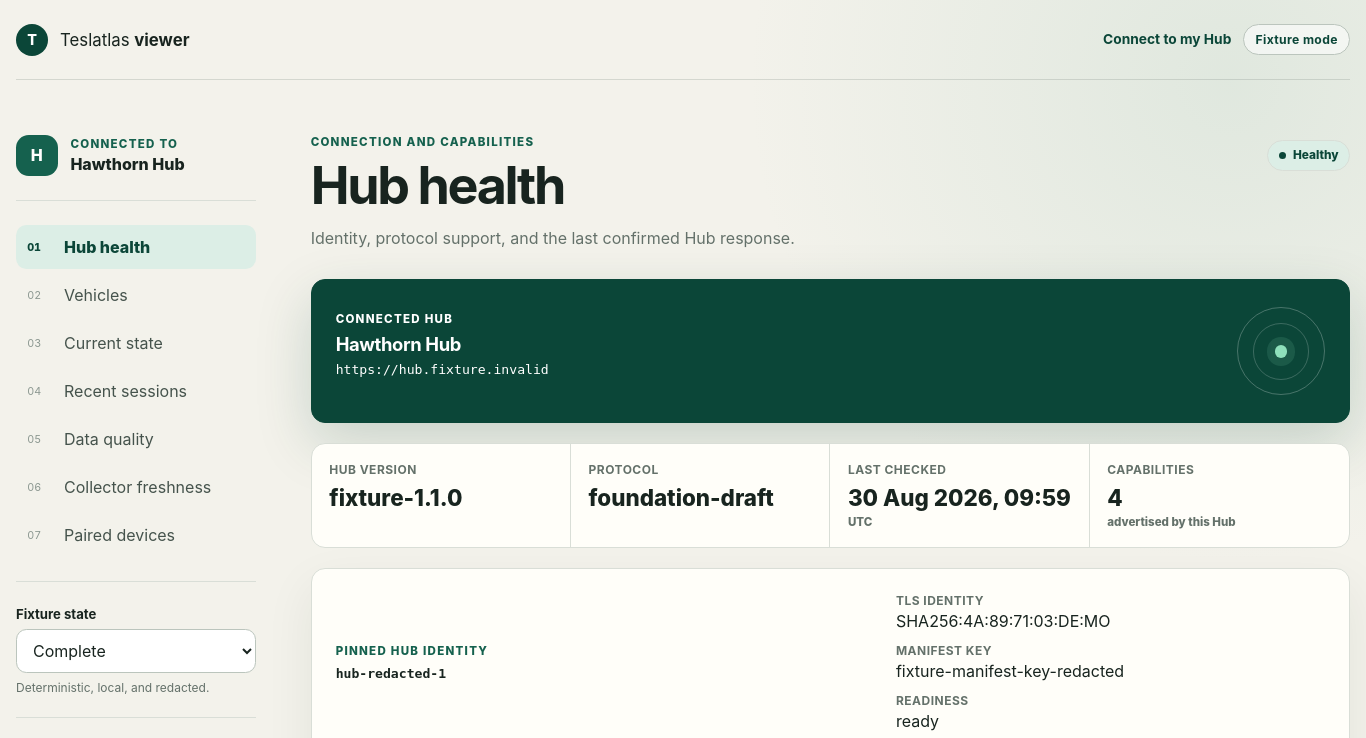
Scenario: reference views › labels retained vehicle, current, and drive resources as stale
The width and height of the screenshot is (1366, 738).
Click the button "02 Vehicles" at (136, 295), box [16,273,256,317]
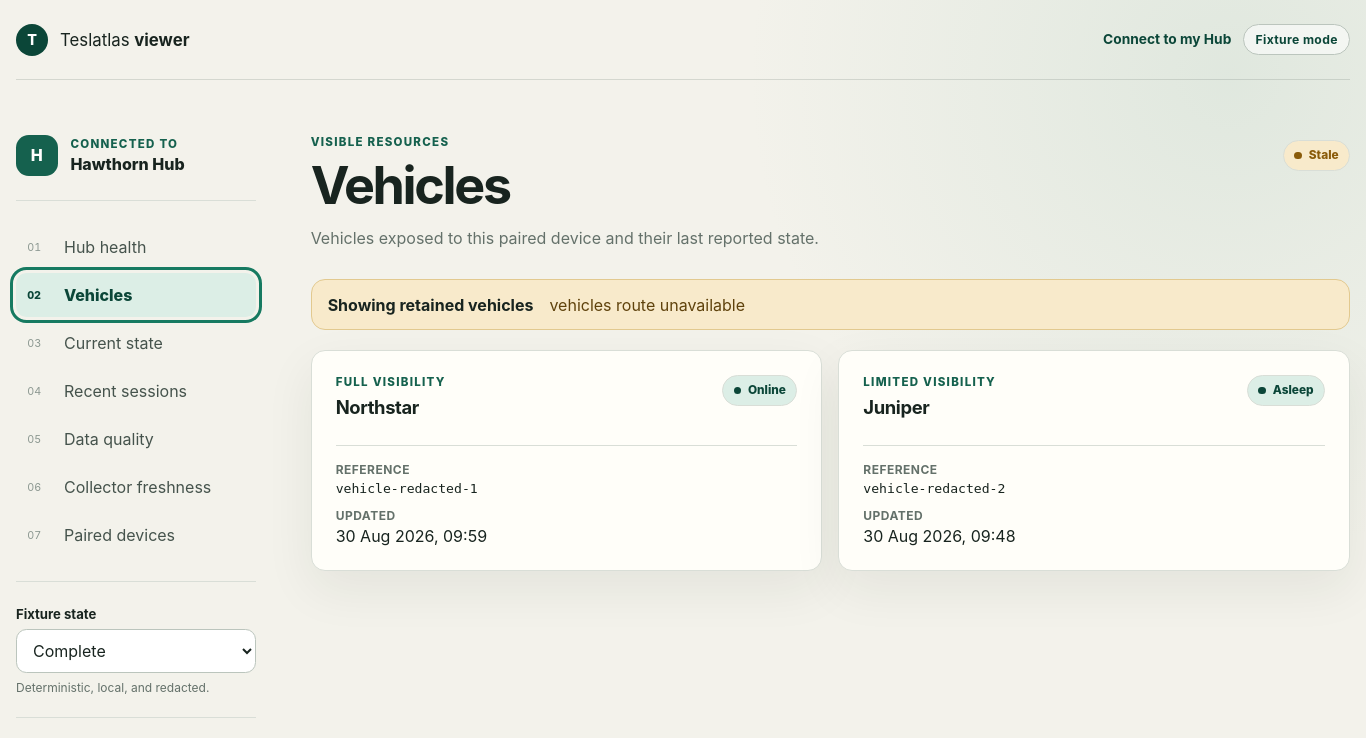
Result: the text "Showing retained vehicles" is shown at [328,295,533,315]
Result: the heading "Northstar" is shown at [336,396,419,418]
Click the button "03 Current state" at (136, 343), box [16,321,256,365]
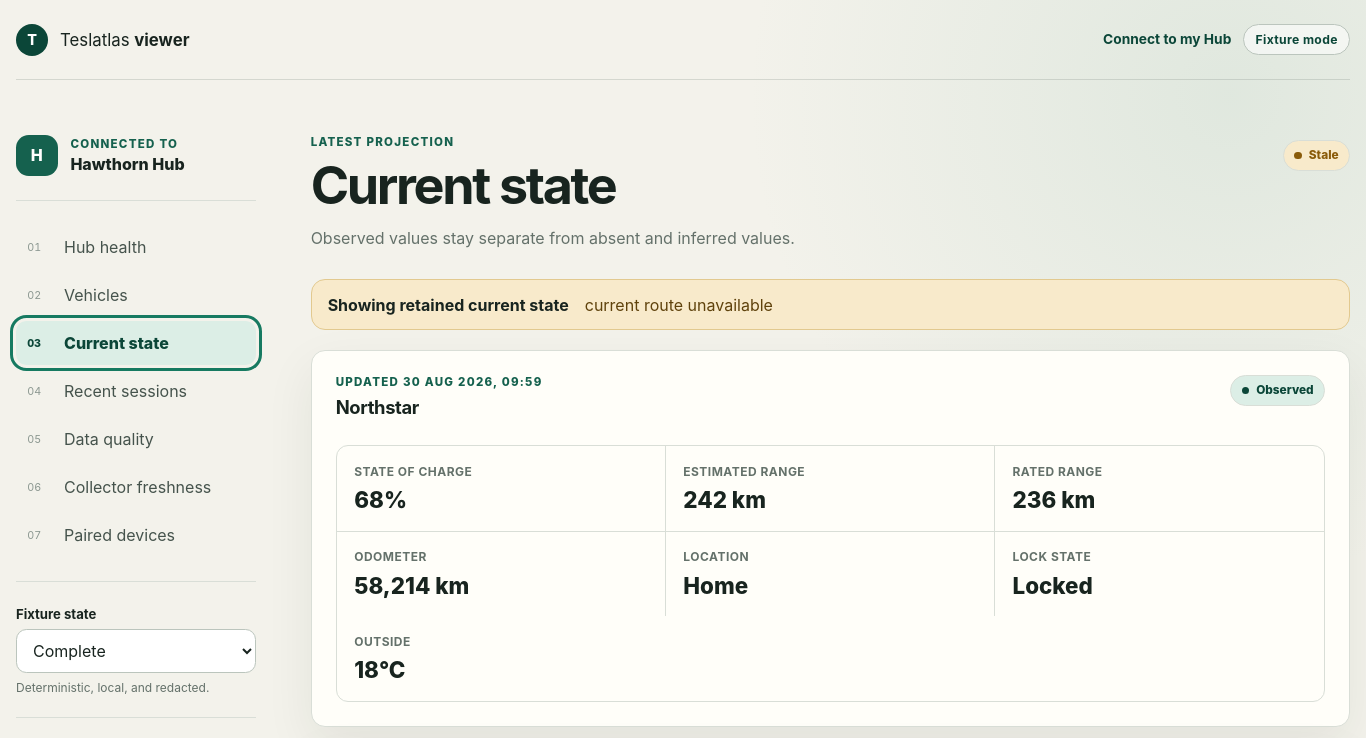
Result: the text "Showing retained current state" is shown at [328,295,569,315]
Result: the text "68%" is shown at [354,486,407,513]
Click the button "04 Recent sessions" at (136, 391), box [16,369,256,413]
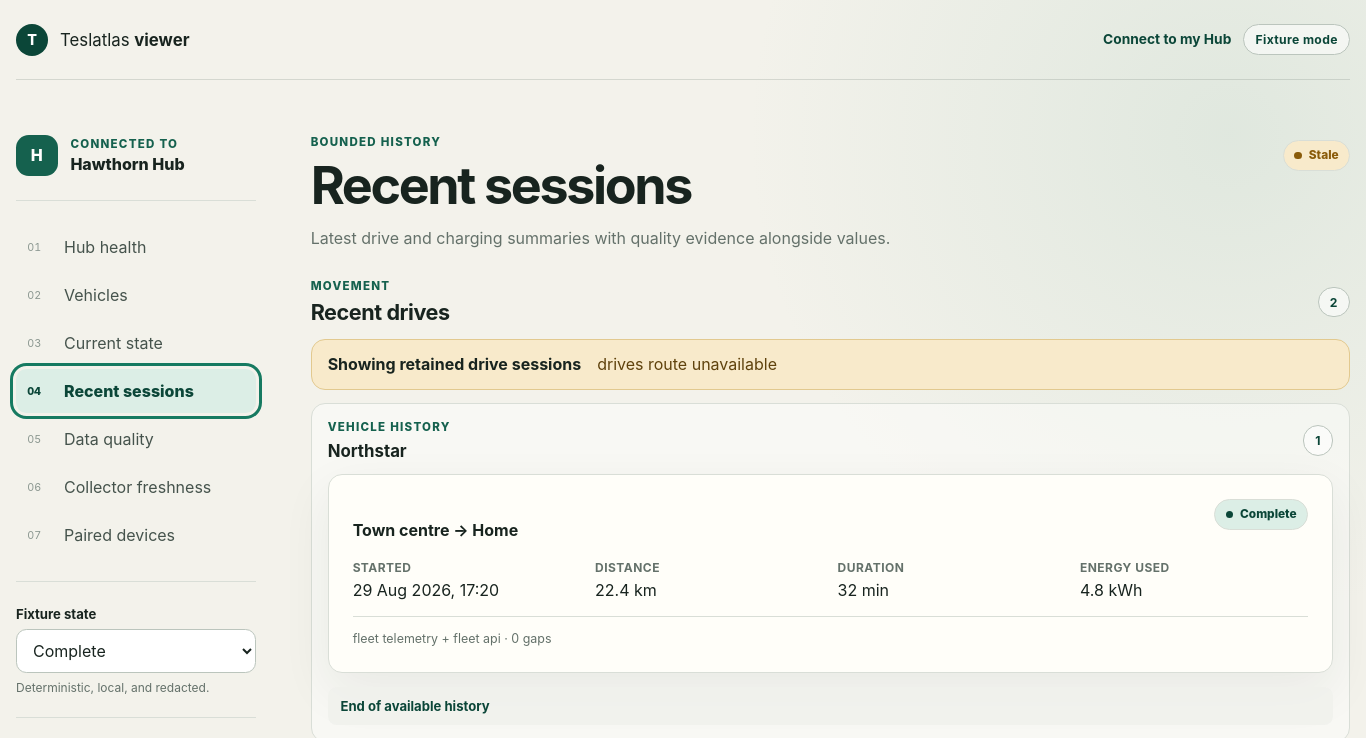
Result: the text "Showing retained drive sessions" is shown at [328,354,581,374]
Result: the text "22.4 km" is shown at [595,580,657,600]
